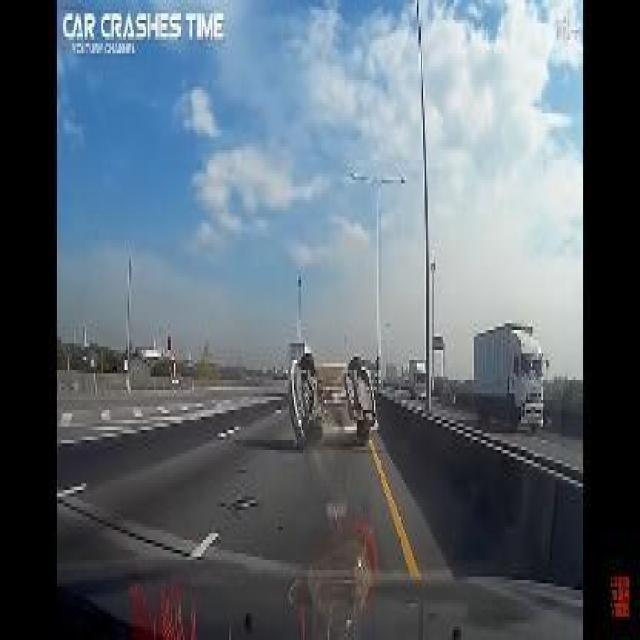accident: (272, 340, 386, 450)
